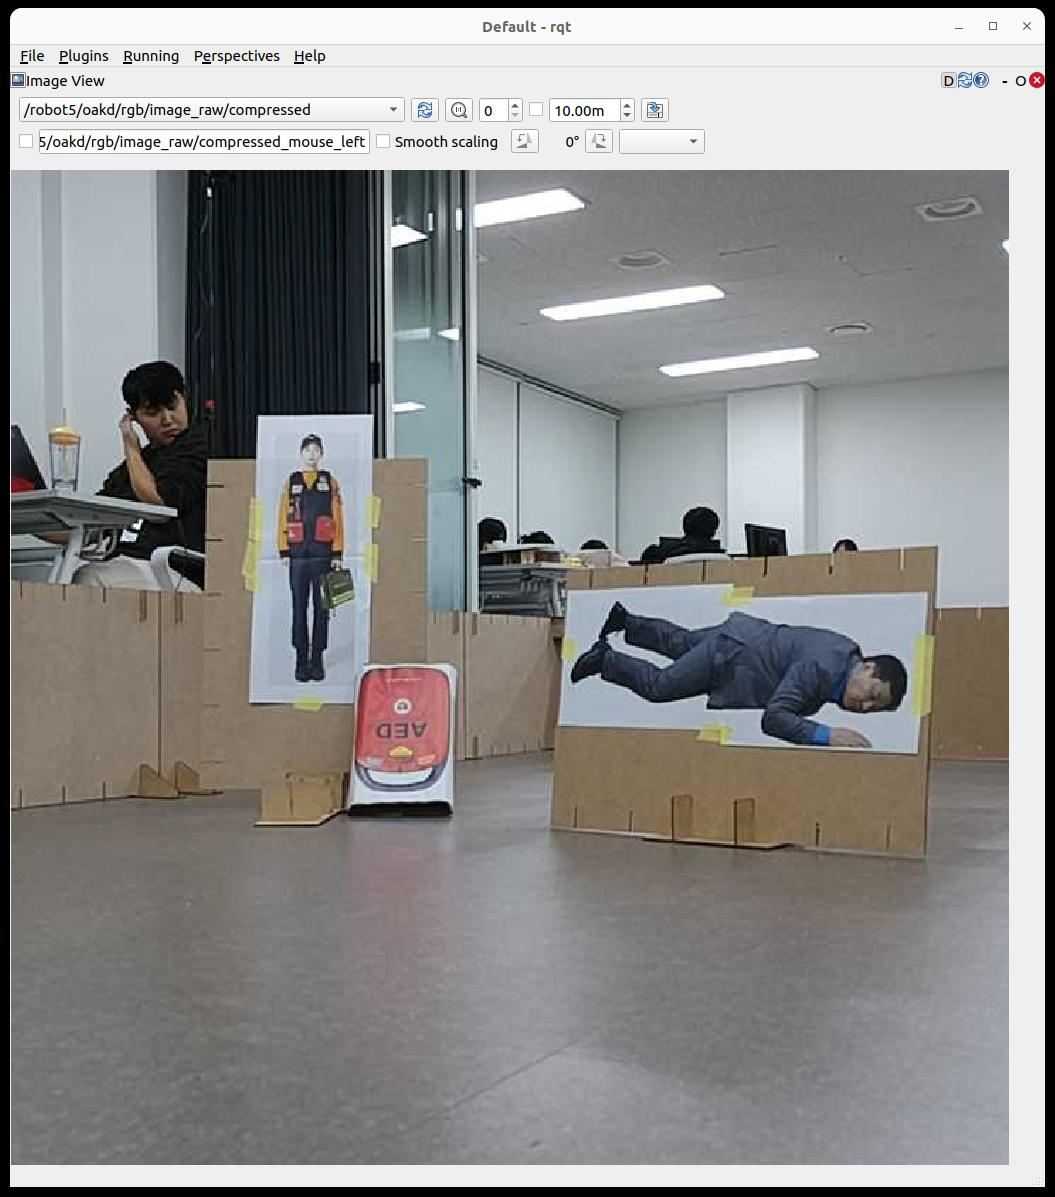Patient: (572, 608, 906, 745)
Responder: (278, 434, 342, 680)
